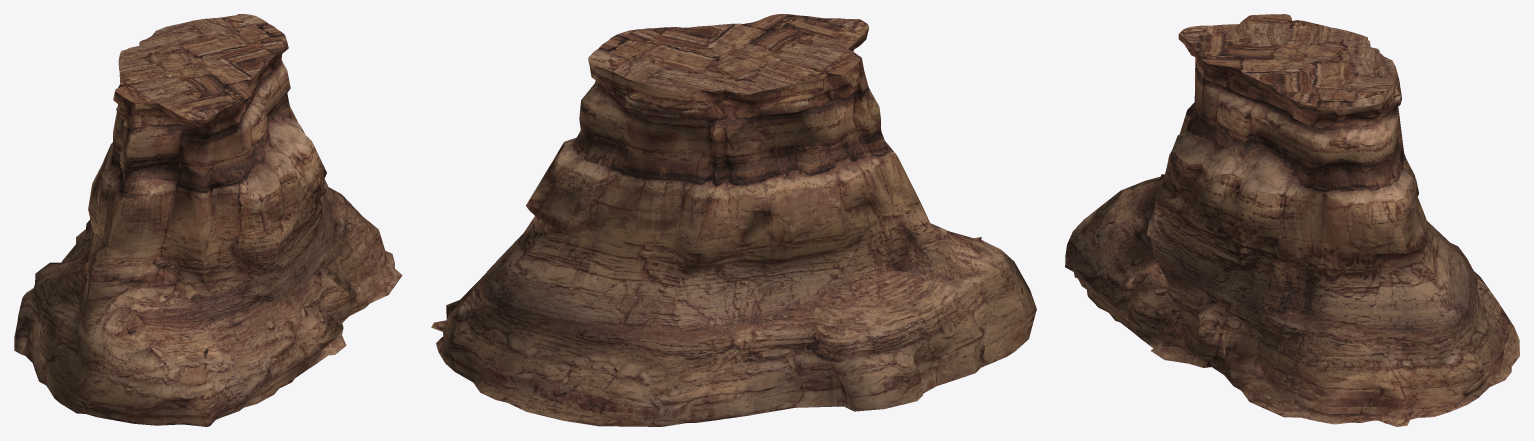
The model's file is Mesh_Cliff_Plateau_01_Taper_AP.fbx.
3 views of the same model, side by side, from view 1: azimuth 30°, elevation 25°; view 2: azimuth 150°, elevation 25°; view 3: azimuth 270°, elevation 25° (orthographic). The views are drawn at different scales.
Visible parts, largest first — view 1: Mesh_Cliff_Plateau_01_Taper_AP; view 2: Mesh_Cliff_Plateau_01_Taper_AP; view 3: Mesh_Cliff_Plateau_01_Taper_AP.
Boxes of the visible parts, left/top/right/bottom form: Mesh_Cliff_Plateau_01_Taper_AP: left=14, top=14, right=402, bottom=426; Mesh_Cliff_Plateau_01_Taper_AP: left=431, top=14, right=1036, bottom=426; Mesh_Cliff_Plateau_01_Taper_AP: left=1065, top=14, right=1519, bottom=426.
Size of the model in its own units: 6680 by 3962 by 6289.
